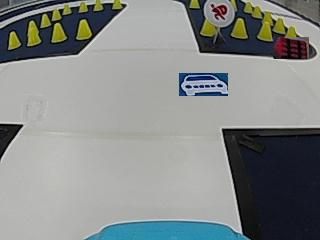thief: (202, 0, 236, 26)
